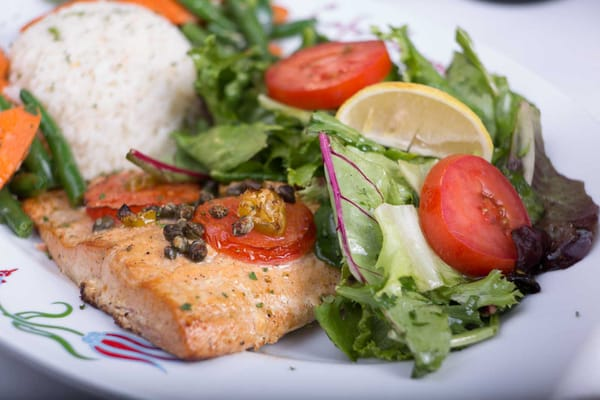taco: (334, 80, 494, 162)
